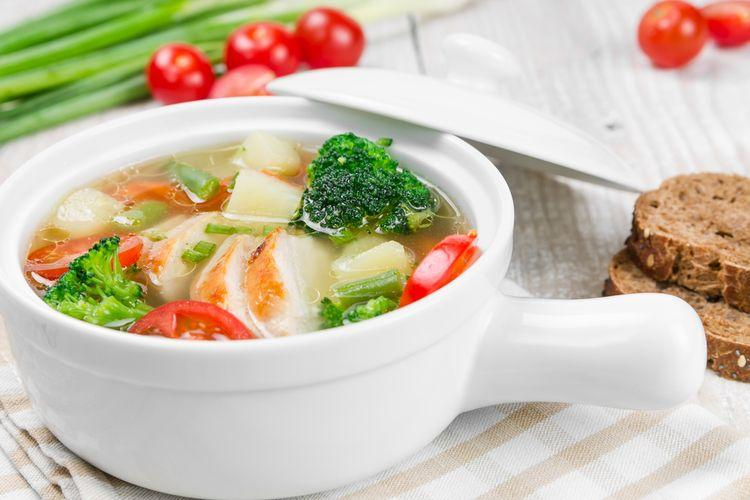buah_sayur_lainnya: (311, 149, 414, 225), (54, 264, 134, 311)
